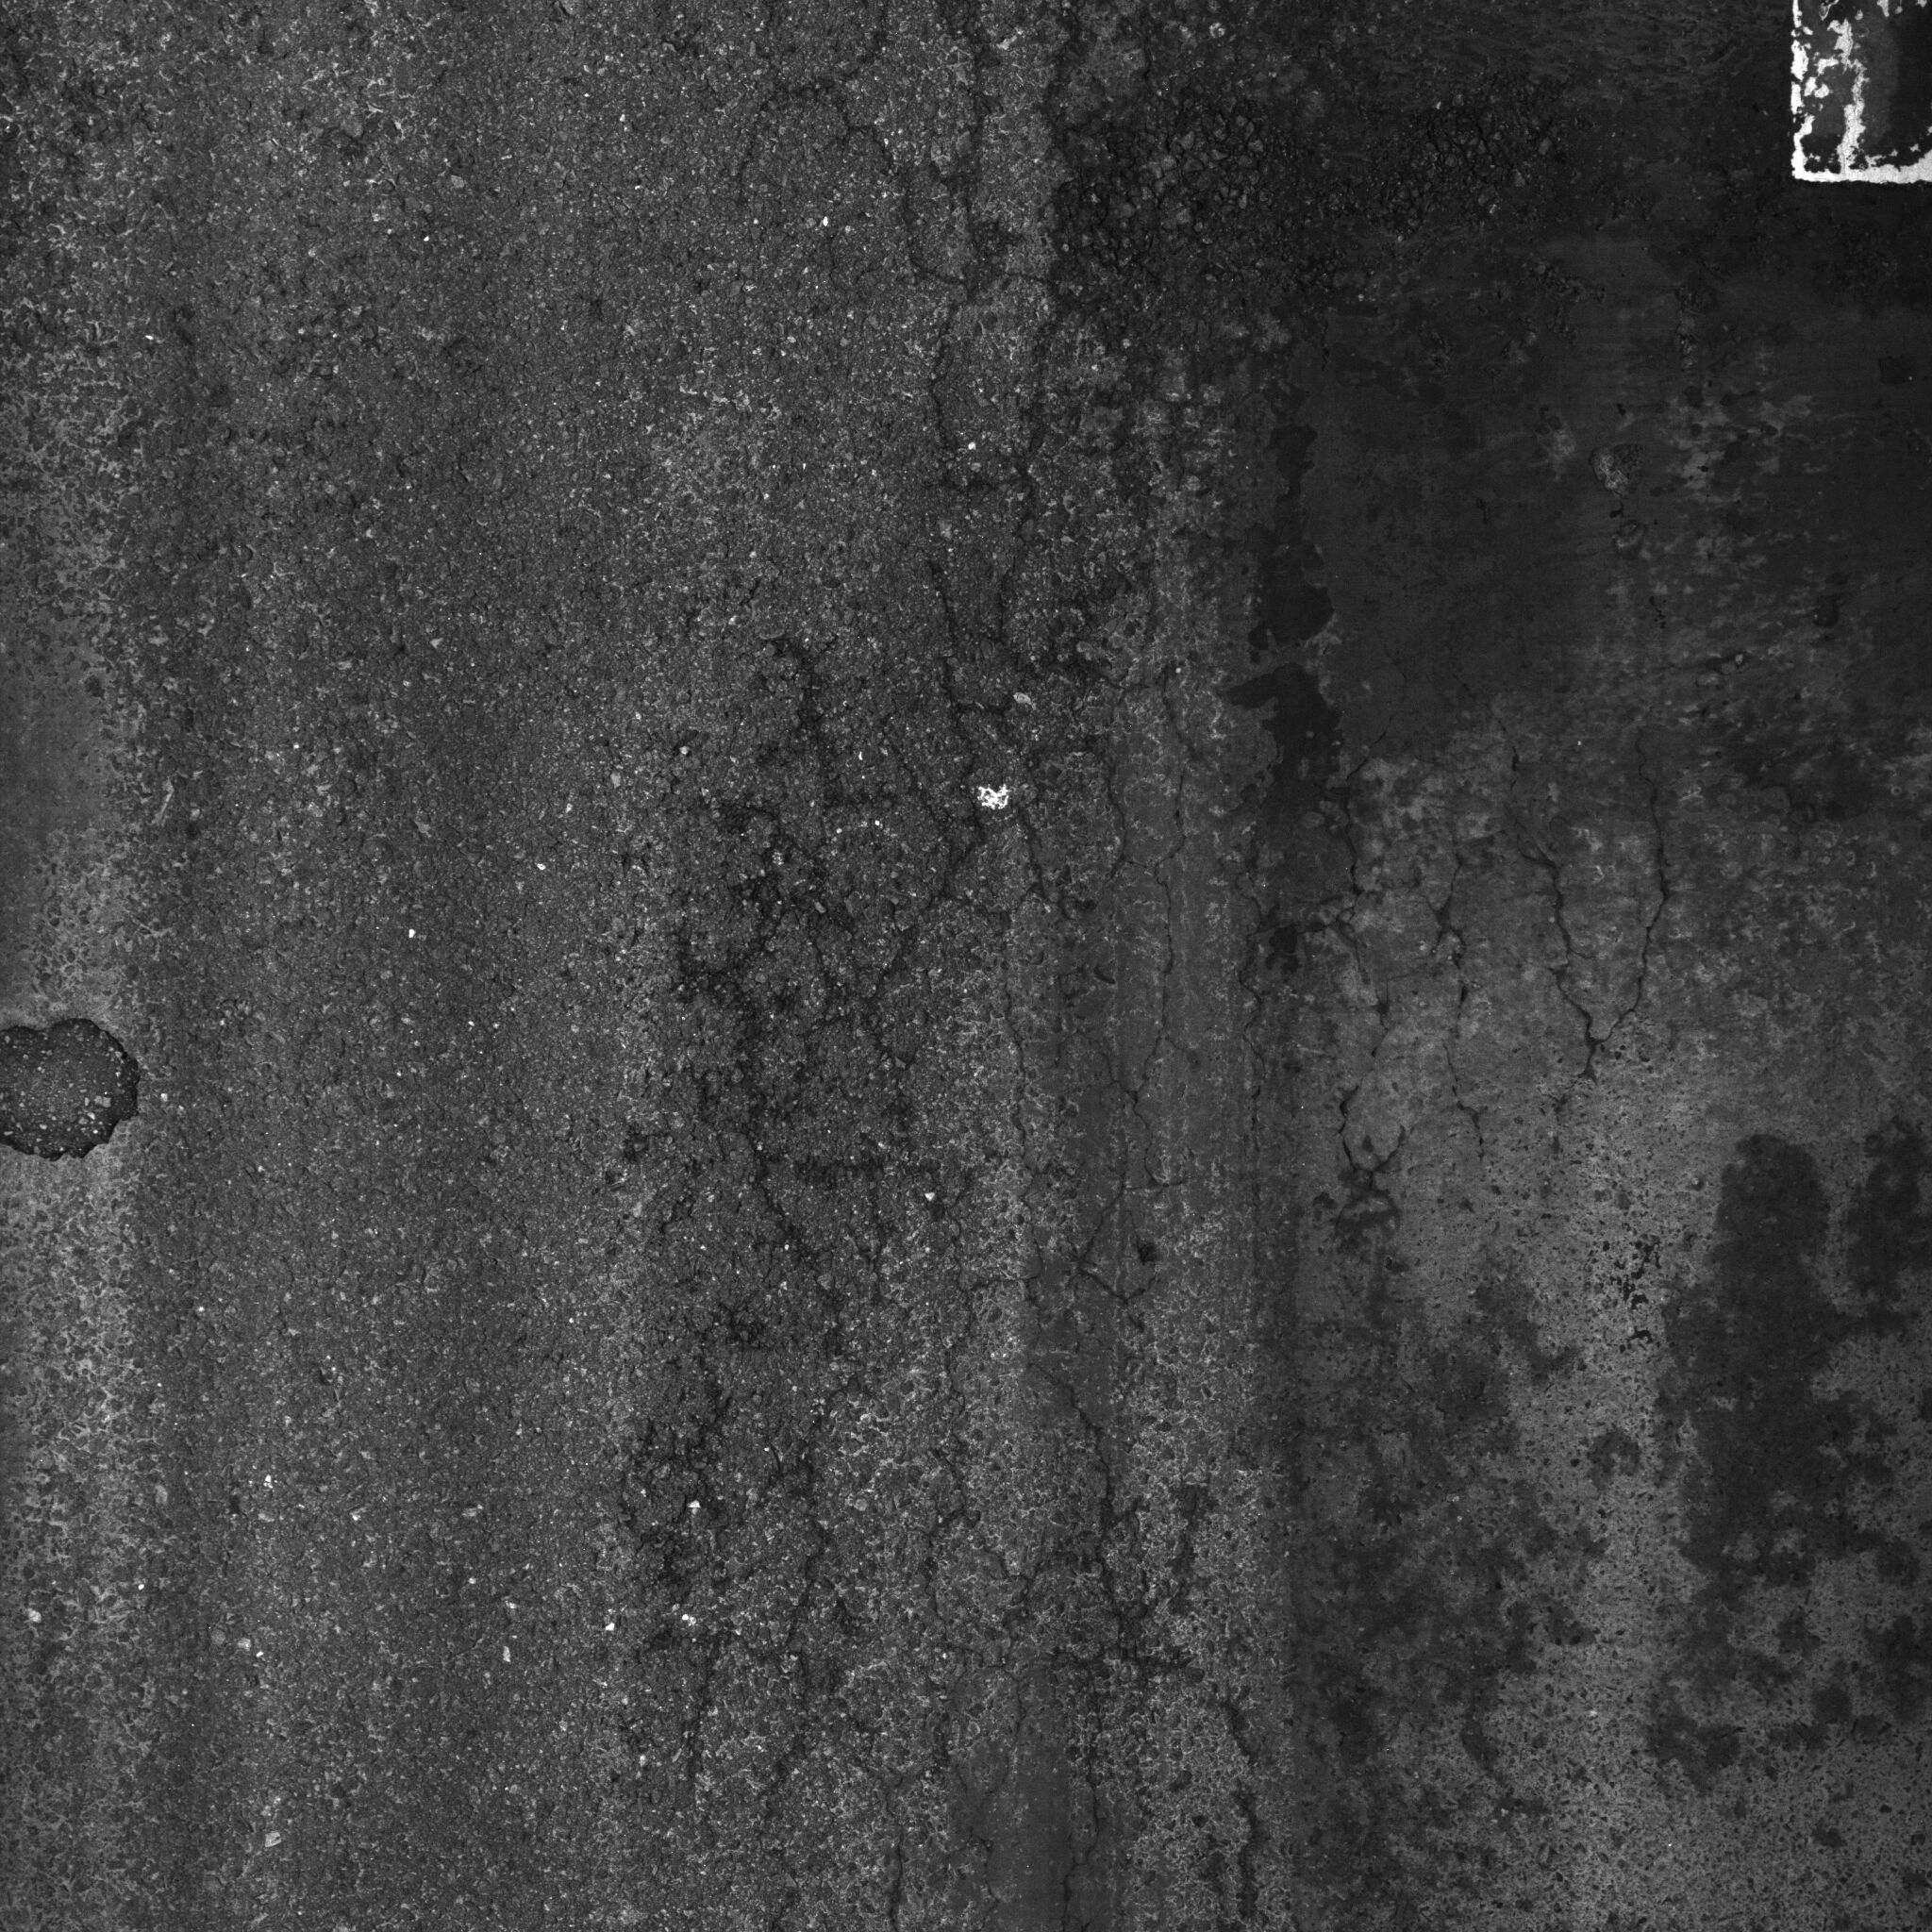alligator: (533, 9, 1679, 1911)
